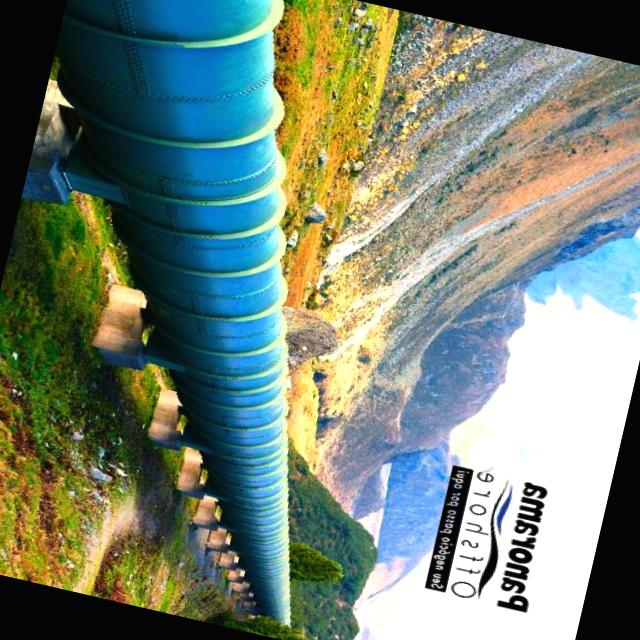gas: (58, 0, 289, 623)
